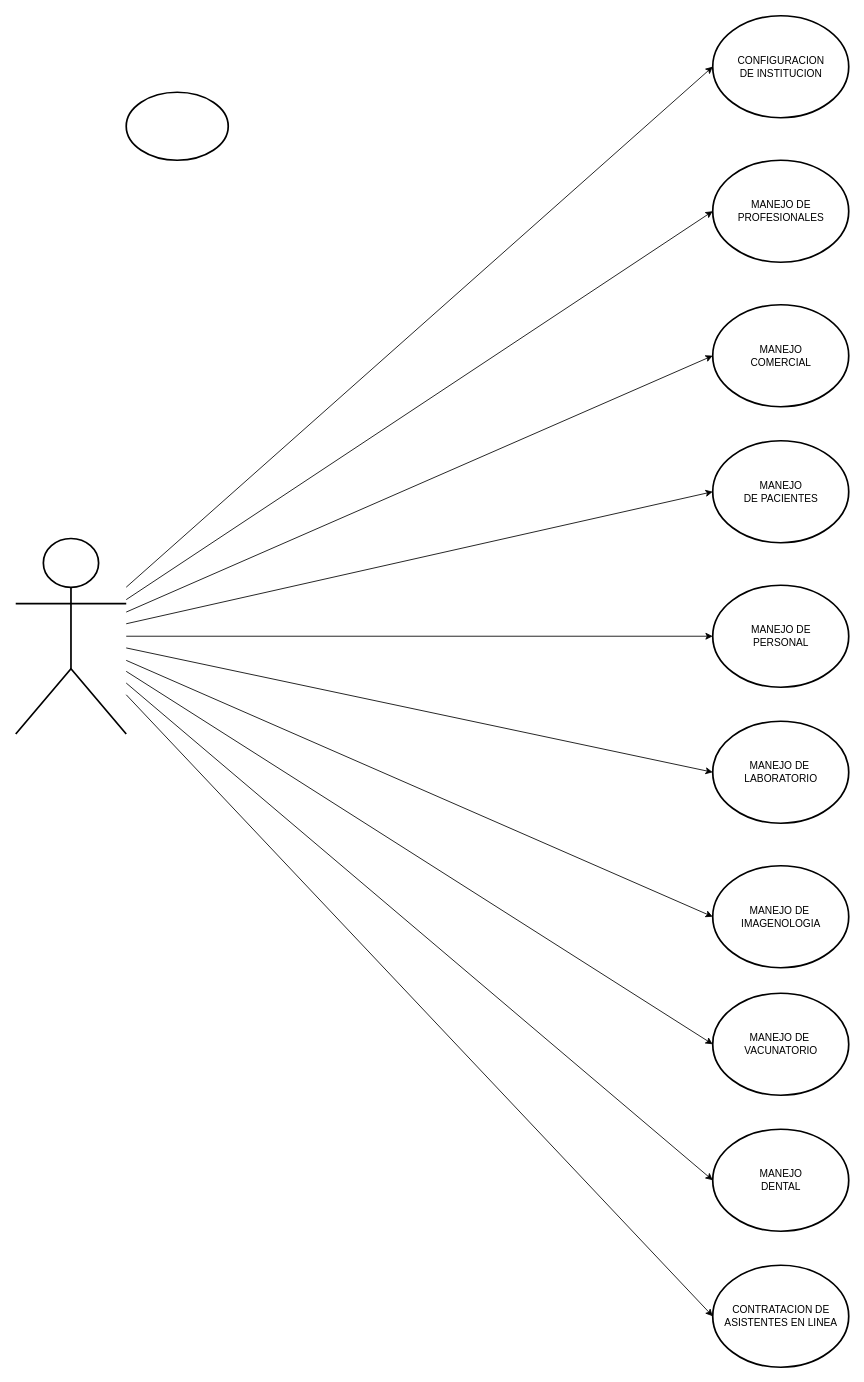
This 864x1382 diagram has some shape labels left out. Here are the shapes that lost their labels. From the top down, the box of each, then its label:
(125, 91, 229, 161): LOGIN
(14, 537, 127, 734): Paciente
